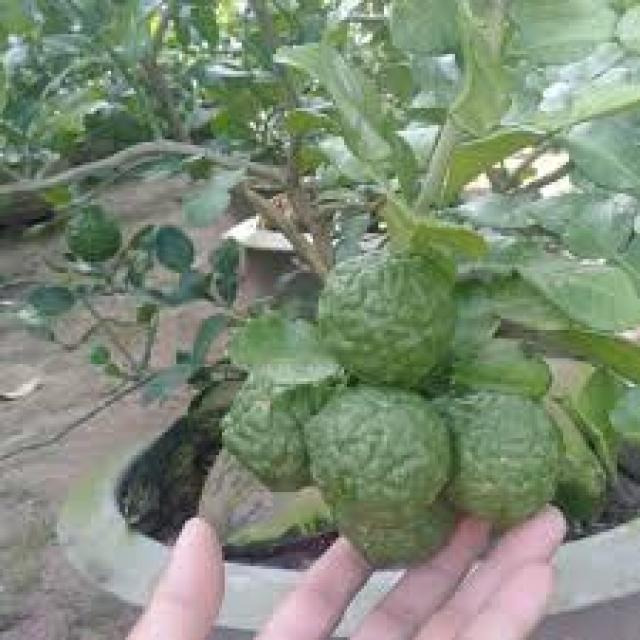Chuc: (302, 381, 455, 566), (313, 242, 458, 387), (432, 384, 560, 523), (216, 356, 344, 489), (330, 495, 455, 569), (62, 202, 120, 262)
